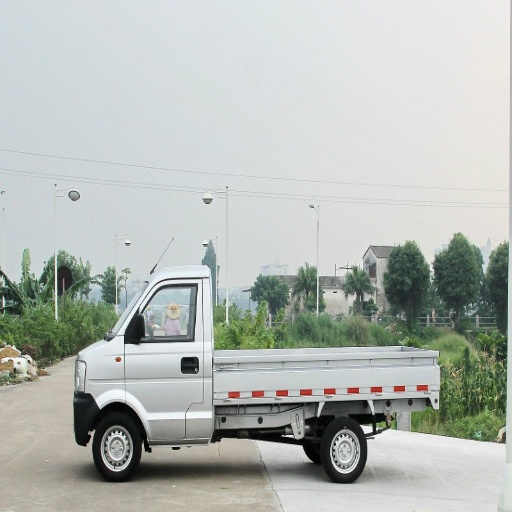trunk: (134, 345, 345, 430)
